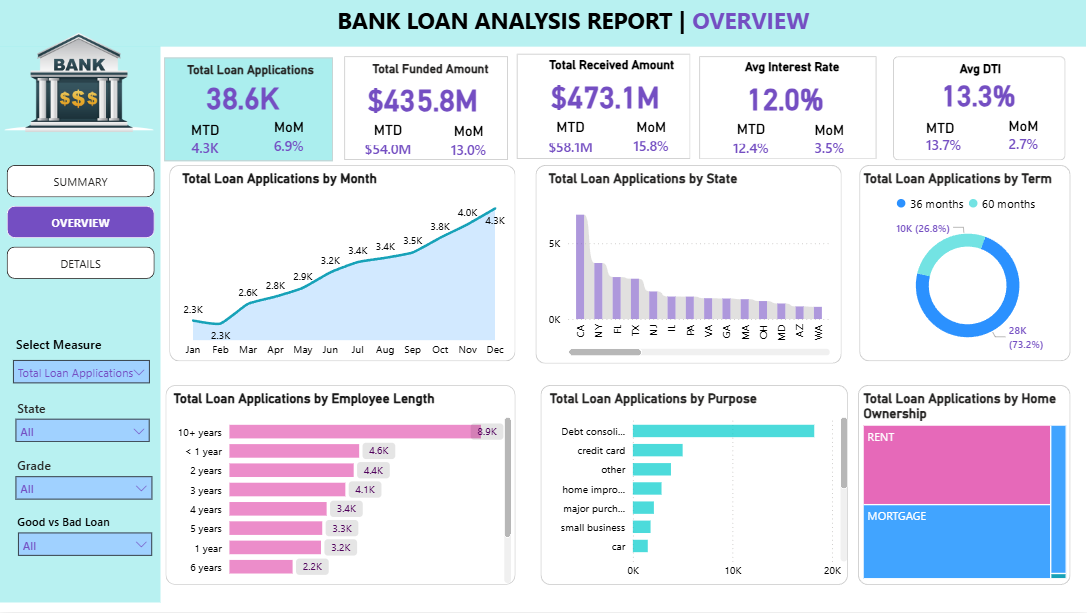

This screenshot's page, from the dashboard's own definition file:
{"tool":"powerbi","page":{"name":"OVERVIEW","canvas":[1280,720],"ordinal":1},"visuals":[{"type":"shape","box":[0,0,1280.3,54.9],"z":0},{"type":"shape","box":[610.3,63,204.4,123.8],"z":0,"group":"g3"},{"type":"shape","box":[825,65.8,208.5,121.2],"z":0,"group":"g4"},{"type":"shape","box":[406.7,66,192.6,122.1],"z":0,"group":"g2"},{"type":"shape","box":[1053.6,66.2,203,122.4],"z":0,"group":"g5"},{"type":"shape","box":[196.2,68.3,198.5,122.1],"z":0,"group":"g1"},{"type":"shape","box":[0,54.4,191.2,654.4],"z":1000},{"type":"card","fields":{"Values":["financial_loan.Total Loan Applications"]},"box":[216,88.4,143.6,49.1],"z":1000,"group":"g1"},{"type":"card","fields":{"Values":["financial_loan.Total Received Amount"]},"box":[639.1,88.4,149.5,48],"z":1000,"group":"g3"},{"type":"card","fields":{"Values":["financial_loan.Average Interest Rate"]},"box":[852.2,89.4,146.2,49.3],"z":1000,"group":"g4"},{"type":"card","fields":{"Values":["financial_loan.Total Funded Amount"]},"box":[424.5,90.8,149.5,49.3],"z":1000,"group":"g2"},{"type":"textbox","box":[616.2,61.8,211.7,50.4],"z":2000,"group":"g3"},{"type":"textbox","box":[829.7,64.7,210,49.3],"z":2000,"group":"g4"},{"type":"textbox","box":[1048.5,66.2,214.4,51.5],"z":2000,"group":"g5"},{"type":"textbox","box":[195.9,68.3,202.9,51.5],"z":2000,"group":"g1"},{"type":"shape","box":[201.5,194.1,407.4,230.9],"z":2000},{"type":"textbox","box":[393.9,0,587.7,63.8],"z":3000},{"type":"card","title":"MTD","fields":{"Values":["financial_loan.MTD Total Received Amount"]},"box":[632.4,139.1,82.2,42],"z":3000,"group":"g3"},{"type":"card","title":"MTD","fields":{"Values":["financial_loan.MTD Avg Int Rate"]},"box":[845.6,141.4,80.4,43.2],"z":3000,"group":"g4"},{"type":"card","title":"MTD","fields":{"Values":["financial_loan.MTD Loan Applications"]},"box":[214.9,142.6,57.7,45.4],"z":3000,"group":"g1"},{"type":"card","title":"MTD","fields":{"Values":["financial_loan.MTD Funded Amount"]},"box":[417.7,142.8,82.2,43.2],"z":3000,"group":"g2"},{"type":"group","id":"g1","title":"Group 1","box":[195.9,68.3,202.9,122.1],"z":4000},{"type":"card","title":"MoM","fields":{"Values":["financial_loan.MoM Loan Application"]},"box":[313.1,140.1,57.7,45.4],"z":4000,"group":"g1"},{"type":"card","title":"MoM","fields":{"Values":["financial_loan.MoM Total Received Amount"]},"box":[737.9,140.3,60.1,44.4],"z":4000,"group":"g3"},{"type":"card","title":"MoM","fields":{"Values":["financial_loan.MoM Avg Int Rate"]},"box":[948.8,142.6,58.8,45.6],"z":4000,"group":"g4"},{"type":"card","title":"MoM","fields":{"Values":["financial_loan.MoM Total Funded Amount"]},"box":[523.2,144.1,60.1,45.6],"z":4000,"group":"g2"},{"type":"group","id":"g2","title":"Group 1","box":[401.5,66,214.7,123.7],"z":5000},{"type":"group","id":"g3","title":"Group 1","box":[610.3,61.8,217.6,125],"z":6000},{"type":"group","id":"g4","title":"Group 1","box":[825,64.7,214.7,123.5],"z":7000},{"type":"textbox","box":[401.5,66.2,214.7,49.3],"z":7500,"group":"g2"},{"type":"group","id":"g5","title":"Group 1","box":[1048.5,66.2,213.2,122.1],"z":8000},{"type":"textbox","box":[1104.3,88.3,112.9,56.4],"z":9000},{"type":"textbox","box":[1087.1,135,67.5,55.2],"z":10000},{"type":"textbox","box":[1183.8,133.8,63.2,54.4],"z":11000},{"type":"shape","box":[632.4,194.1,360.3,233.8],"z":12000},{"type":"slicer","fields":{"Values":["financial_loan.address_state"]},"box":[10,481.9,178.4,51.4],"z":13000},{"type":"textbox","box":[17.6,464.7,66.2,30.9],"z":14000},{"type":"slicer","fields":{"Values":["financial_loan.grade"]},"box":[10.3,550,180.9,50],"z":15000},{"type":"textbox","box":[17.6,532.4,73.5,33.8],"z":16000},{"type":"slicer","fields":{"Values":["financial_loan.purpose"]},"box":[13.2,616.2,177.9,50],"z":17000},{"type":"textbox","box":[17.6,600,147.1,30.9],"z":18000},{"type":"areaChart","fields":{"Y":["financial_loan.Total Loan Applications"],"Category":["Date Table.Month"]},"box":[211.8,201.5,391.2,227.9],"z":19000},{"type":"slicer","fields":{"Values":["Select Measure.Select Measure"]},"box":[7.3,413,181.1,45.9],"z":20000},{"type":"ribbonChart","fields":{"Y":["financial_loan.Total Loan Applications"],"Category":["financial_loan.address_state"]},"box":[642.6,201.5,341.2,222.1],"z":21000},{"type":"shape","box":[1013.2,194.1,248.5,230.9],"z":22000},{"type":"donutChart","fields":{"Y":["financial_loan.Total Loan Applications"],"Category":["financial_loan.term"]},"box":[1013.5,201.4,255.4,221.6],"z":23000},{"type":"shape","box":[197.1,452.9,411.8,235.3],"z":24000},{"type":"barChart","fields":{"Y":["financial_loan.Total Loan Applications"],"Category":["financial_loan.emp_length"]},"box":[201.5,460.3,407.4,230.9],"z":25000},{"type":"shape","box":[638.2,452.9,361.8,235.3],"z":26000},{"type":"barChart","fields":{"Y":["financial_loan.Total Loan Applications"],"Category":["financial_loan.purpose"]},"box":[644.1,460.3,360.3,229.4],"z":27000},{"type":"shape","box":[1011.8,452.9,250,235.3],"z":28000},{"type":"treemap","fields":{"Values":["financial_loan.Total Loan Applications"],"Group":["financial_loan.home_ownership"]},"box":[1013.5,460.8,248.6,225.7],"z":29000},{"type":"textbox","box":[16.2,389.7,130.9,45.6],"z":30000},{"type":"pageNavigator","box":[10.8,194.6,174.3,136.5],"z":31000},{"type":"image","box":[2.7,6.8,185.1,179.7],"z":32000}]}

Visuals, with their boxes in screenshot pixels (x1, y1, x2, y2), scaled from the page's 1280x720 canvas onto the 1087x613 screenshot:
shape: 0/0/1086/47
shape: 518/54/692/159
shape: 701/56/878/159
shape: 345/56/509/160
shape: 895/56/1067/161
shape: 167/58/335/162
shape: 0/46/162/603
card - financial_loan.Total Loan Applications: 183/75/305/117
card - financial_loan.Total Received Amount: 543/75/670/116
card - financial_loan.Average Interest Rate: 724/76/848/118
card - financial_loan.Total Funded Amount: 360/77/487/119
textbox: 523/53/703/96
textbox: 705/55/883/97
textbox: 890/56/1072/100
textbox: 166/58/339/102
shape: 171/165/517/362
textbox: 335/0/834/54
"MTD" card: 537/118/607/154
"MTD" card: 718/120/786/157
"MTD" card: 182/121/231/160
"MTD" card: 355/122/425/158
"Group 1" group: 166/58/339/162
"MoM" card: 266/119/315/158
"MoM" card: 627/119/678/157
"MoM" card: 806/121/856/160
"MoM" card: 444/123/495/162
"Group 1" group: 341/56/523/162
"Group 1" group: 518/53/703/159
"Group 1" group: 701/55/883/160
textbox: 341/56/523/98
"Group 1" group: 890/56/1071/160
textbox: 938/75/1034/123
textbox: 923/115/981/162
textbox: 1005/114/1059/160
shape: 537/165/843/364
slicer - financial_loan.address_state: 8/410/160/454
textbox: 15/396/71/422
slicer - financial_loan.grade: 9/468/162/511
textbox: 15/453/77/482
slicer - financial_loan.purpose: 11/525/162/567
textbox: 15/511/140/537
areaChart - financial_loan.Total Loan Applications x Date Table.Month: 180/172/512/366
slicer - Select Measure.Select Measure: 6/352/160/391
ribbonChart - financial_loan.Total Loan Applications x financial_loan.address_state: 546/172/835/361
shape: 860/165/1071/362
donutChart - financial_loan.Total Loan Applications x financial_loan.term: 861/171/1078/360
shape: 167/386/517/586
barChart - financial_loan.Total Loan Applications x financial_loan.emp_length: 171/392/517/588
shape: 542/386/849/586
barChart - financial_loan.Total Loan Applications x financial_loan.purpose: 547/392/853/587
shape: 859/386/1072/586
treemap - financial_loan.Total Loan Applications x financial_loan.home_ownership: 861/392/1072/584
textbox: 14/332/125/371
pageNavigator: 9/166/157/282
image: 2/6/159/159
